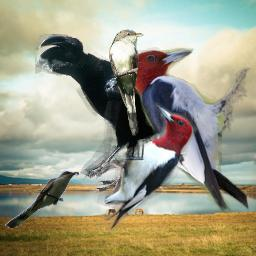Crow: (35, 34, 222, 196)
Cuckoo: (5, 170, 79, 228), (109, 29, 144, 136)
Woodpecker: (124, 43, 255, 215), (95, 101, 200, 234)
